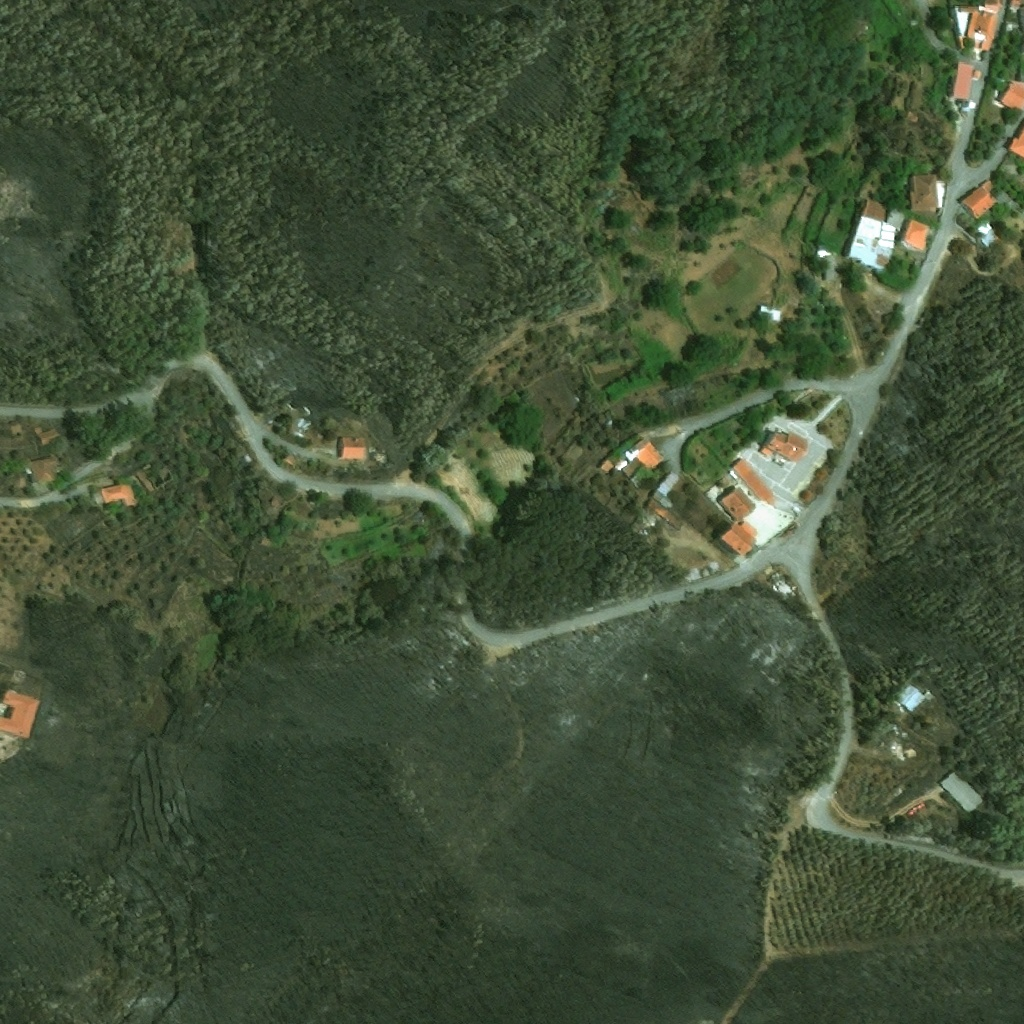0 no-damage: (845, 195, 908, 273), (952, 0, 1005, 60), (960, 175, 1021, 220), (939, 768, 985, 815), (731, 456, 774, 506), (0, 689, 42, 737), (614, 437, 663, 478), (761, 429, 809, 463), (717, 484, 758, 523), (89, 478, 136, 508), (720, 521, 758, 557), (950, 61, 976, 111), (645, 498, 683, 531), (900, 218, 932, 255), (892, 679, 926, 713), (815, 244, 841, 283), (910, 175, 939, 208), (26, 456, 58, 484), (37, 425, 67, 449), (975, 220, 1000, 248), (657, 472, 681, 499), (338, 437, 366, 460), (758, 304, 782, 323), (652, 490, 674, 510), (268, 494, 284, 510), (598, 459, 614, 474), (924, 690, 936, 701), (974, 69, 983, 81)
3 destroyed: (769, 571, 787, 589)
4 un-classified: (998, 59, 1023, 110), (137, 460, 171, 494), (1006, 126, 1023, 157), (1008, 0, 1022, 12), (1006, 20, 1018, 32)
